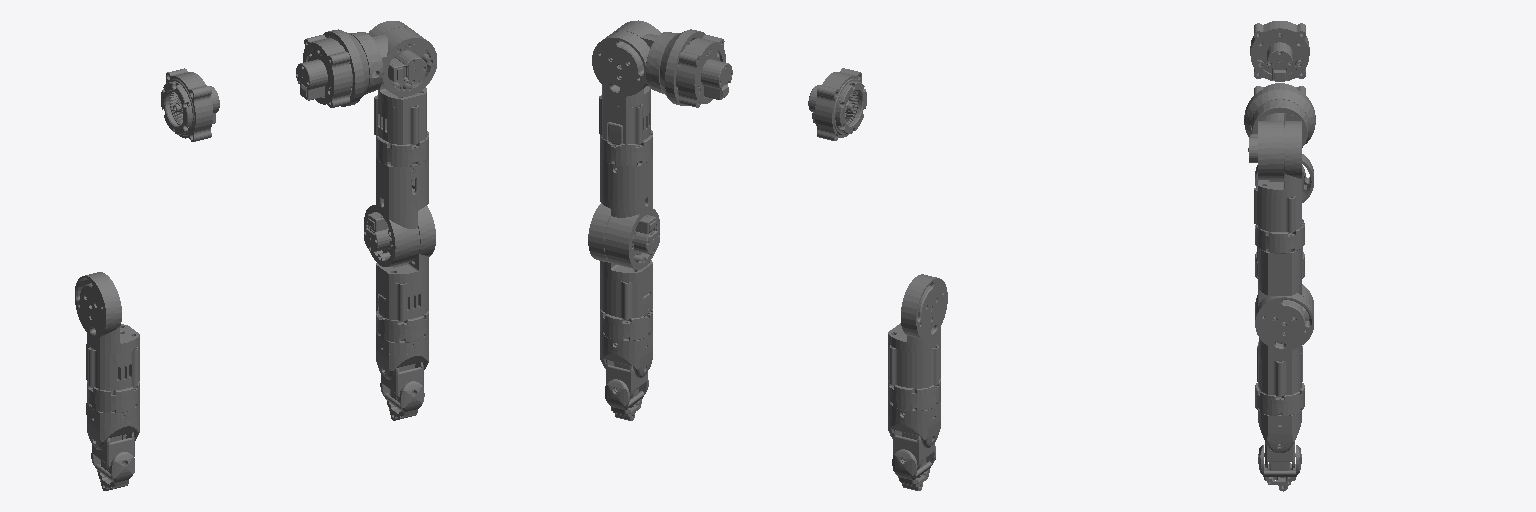
URDF robot description (Wattson):
<robot name="Wattson" version="1.0">
  <joint name="joint_left_arm_yaw" type="revolute">
    <limit lower="-1.30900" upper="0.26180" effort="0.00000" velocity="0.00000"/>
    <origin rpy="1.57080 0.00000 0.00000" xyz="-0.00717 0.16307 -0.02474"/>
    <parent link="link_left_shoulder_x"/>
    <child link="link_left_upper_arm"/>
    <axis xyz="0.00000 0.00000 1.00000"/>
  </joint>
  <joint name="joint_left_elbow_pitch" type="revolute">
    <limit lower="0.00000" upper="1.57080" effort="0.00000" velocity="0.00000"/>
    <origin rpy="0.00000 1.57080 0.00000" xyz="-0.02455 0.00813 -0.12544"/>
    <parent link="link_left_upper_arm"/>
    <child link="link_left_elbow"/>
    <axis xyz="0.00000 0.00000 1.00000"/>
  </joint>
  <joint name="joint_left_forearm_yaw" type="revolute">
    <limit lower="-1.57080" upper="1.57080" effort="0.00000" velocity="0.00000"/>
    <origin rpy="0.00000 -1.57080 0.00000" xyz="0.16300 -0.00751 0.02462"/>
    <parent link="link_left_elbow"/>
    <child link="link_left_forearm"/>
    <axis xyz="0.00000 0.00000 1.00000"/>
  </joint>
  <joint name="joint_left_shoulder_pitch" type="revolute">
    <limit lower="0.00000" upper="1.57080" effort="0.00000" velocity="0.00000"/>
    <origin rpy="-0.00000 1.57080 0.00000" xyz="-0.13450 -0.00005 -0.00000"/>
    <parent link="link_torso"/>
    <child link="link_left_shoulder"/>
    <axis xyz="0.00000 0.00000 1.00000"/>
  </joint>
  <joint name="joint_left_shoulder_roll" type="revolute">
    <limit lower="0.00000" upper="1.30900" effort="0.00000" velocity="0.00000"/>
    <origin rpy="-1.57080 -1.57080 0.00000" xyz="0.00750 0.02422 -0.10644"/>
    <parent link="link_left_shoulder"/>
    <child link="link_left_shoulder_x"/>
    <axis xyz="0.00000 0.00000 1.00000"/>
  </joint>
  <joint name="joint_left_wrist_pitch" type="revolute">
    <limit lower="-0.69813" upper="0.69813" effort="0.00000" velocity="0.00000"/>
    <origin rpy="0.00000 1.57080 0.00000" xyz="-0.00045 -0.00005 -0.05499"/>
    <parent link="link_left_forearm"/>
    <child link="link_left_wrist"/>
    <axis xyz="0.00000 0.00000 1.00000"/>
  </joint>
  <joint name="joint_left_wrist_roll" type="revolute">
    <limit lower="-0.69813" upper="0.69813" effort="0.00000" velocity="0.00000"/>
    <origin rpy="-1.57080 -1.57080 0.00000" xyz="0.02994 -0.00000 0.00000"/>
    <parent link="link_left_wrist"/>
    <child link="link_left_hand"/>
    <axis xyz="0.00000 0.00000 1.00000"/>
  </joint>
  <joint name="joint_right_arm_yaw" type="revolute">
    <limit lower="-1.30900" upper="0.26180" effort="0.00000" velocity="0.00000"/>
    <origin rpy="1.57080 0.00000 0.00000" xyz="0.00717 -0.16307 0.02474"/>
    <parent link="link_right_shoulder_x"/>
    <child link="link_right_upper_arm"/>
    <axis xyz="0.00000 0.00000 1.00000"/>
  </joint>
  <joint name="joint_right_elbow_pitch" type="revolute">
    <limit lower="0.00000" upper="1.57080" effort="0.00000" velocity="0.00000"/>
    <origin rpy="1.79848 -1.57080 1.34311" xyz="0.02455 -0.00813 0.12544"/>
    <parent link="link_right_upper_arm"/>
    <child link="link_right_elbow"/>
    <axis xyz="0.00000 0.00000 1.00000"/>
  </joint>
  <joint name="joint_right_forearm_yaw" type="revolute">
    <limit lower="-1.57080" upper="1.57080" effort="0.00000" velocity="0.00000"/>
    <origin rpy="-3.14159 -1.57080 0.00000" xyz="0.16300 -0.00751 -0.02462"/>
    <parent link="link_right_elbow"/>
    <child link="link_right_forearm"/>
    <axis xyz="0.00000 0.00000 1.00000"/>
  </joint>
  <joint name="joint_right_shoulder_pitch" type="revolute">
    <limit lower="0.00000" upper="1.57080" effort="0.00000" velocity="0.00000"/>
    <origin rpy="-0.00000 1.57080 0.00000" xyz="0.13454 -0.00005 -0.00000"/>
    <parent link="link_torso"/>
    <child link="link_right_shoulder"/>
    <axis xyz="0.00000 0.00000 1.00000"/>
  </joint>
  <joint name="joint_right_shoulder_roll" type="revolute">
    <limit lower="0.00000" upper="1.30900" effort="0.00000" velocity="0.00000"/>
    <origin rpy="1.57080 -1.57080 0.00000" xyz="0.00750 0.02422 0.10644"/>
    <parent link="link_right_shoulder"/>
    <child link="link_right_shoulder_x"/>
    <axis xyz="0.00000 0.00000 1.00000"/>
  </joint>
  <joint name="joint_right_wrist_pitch" type="revolute">
    <limit lower="-0.69813" upper="0.69813" effort="0.00000" velocity="0.00000"/>
    <origin rpy="1.79848 -1.57080 1.34311" xyz="0.00045 0.00005 0.05499"/>
    <parent link="link_right_forearm"/>
    <child link="link_right_wrist"/>
    <axis xyz="0.00000 0.00000 1.00000"/>
  </joint>
  <joint name="joint_right_wrist_roll" type="revolute">
    <limit lower="-0.69813" upper="0.69813" effort="0.00000" velocity="0.00000"/>
    <origin rpy="1.57080 -1.57080 0.00000" xyz="0.02994 -0.00000 -0.00000"/>
    <parent link="link_right_wrist"/>
    <child link="link_right_hand"/>
    <axis xyz="0.00000 0.00000 1.00000"/>
  </joint>
  <link name="link_left_elbow">
    <collision>
      <origin rpy="0.00000 -1.57080 0.00000" xyz="0.05728 -0.00006 0.02315"/>
      <geometry>
        <cylinder radius="0.04750" length="0.20945"/>
      </geometry>
    </collision>
    <visual name="left_forearm">
      <origin rpy="0.00000 -1.57080 0.00000" xyz="0.00000 -0.00000 0.00000"/>
      <material name="Base colour"/>
      <geometry>
        <mesh filename="package://wattson_description/meshes/stl/left_forearm.stl" scale="1.00000 1.00000 1.00000"/>
      </geometry>
    </visual>
  </link>
  <link name="link_left_forearm">
    <collision>
      <origin rpy="0.00000 0.00000 0.00000" xyz="-0.00045 -0.00008 -0.03495"/>
      <geometry>
        <cylinder radius="0.03505" length="0.06989"/>
      </geometry>
    </collision>
    <visual name="left_wrist">
      <origin rpy="0.00000 0.00000 0.00000" xyz="0.00000 0.00000 0.00000"/>
      <material name="Base colour"/>
      <geometry>
        <mesh filename="package://wattson_description/meshes/stl/left_wrist.stl" scale="1.00000 1.00000 1.00000"/>
      </geometry>
    </visual>
  </link>
  <link name="link_left_hand">
    <collision>
      <origin rpy="1.57080 -0.00000 1.57080" xyz="0.00001 0.02195 0.00000"/>
      <geometry>
        <cylinder radius="0.03682" length="0.04097"/>
      </geometry>
    </collision>
    <visual name="left_hand">
      <origin rpy="1.57080 0.00000 0.00000" xyz="0.00033 0.04021 0.00566"/>
      <material name="Base colour"/>
      <geometry>
        <mesh filename="package://wattson_description/meshes/stl/left_hand.stl" scale="1.00000 1.00000 1.00000"/>
      </geometry>
    </visual>
    <visual name="left_wrist_connection">
      <origin rpy="1.57080 0.00000 0.00000" xyz="0.00000 0.00000 0.00000"/>
      <material name="Base colour"/>
      <geometry>
        <mesh filename="package://wattson_description/meshes/stl/left_wrist_x.stl" scale="1.00000 1.00000 1.00000"/>
      </geometry>
    </visual>
  </link>
  <link name="link_left_shoulder">
    <collision>
      <origin rpy="0.00000 0.00000 0.00000" xyz="-0.00000 0.00005 -0.07697"/>
      <geometry>
        <cylinder radius="0.05750" length="0.15394"/>
      </geometry>
    </collision>
    <visual name="left_shoulder">
      <origin rpy="0.00000 -1.57080 0.00000" xyz="0.00000 0.00000 0.00000"/>
      <material name="Base colour"/>
      <geometry>
        <mesh filename="package://wattson_description/meshes/stl/left_shoulder.stl" scale="1.00000 1.00000 1.00000"/>
      </geometry>
    </visual>
  </link>
  <link name="link_left_shoulder_x">
    <collision>
      <origin rpy="1.57080 0.00000 0.00000" xyz="-0.00006 0.05728 -0.02518"/>
      <geometry>
        <cylinder radius="0.04750" length="0.20945"/>
      </geometry>
    </collision>
    <visual name="left_shoulder_x">
      <origin rpy="1.57080 0.00000 0.00000" xyz="0.00000 0.00000 0.00000"/>
      <material name="Base colour"/>
      <geometry>
        <mesh filename="package://wattson_description/meshes/stl/left_shoulder_x.stl" scale="1.00000 1.00000 1.00000"/>
      </geometry>
    </visual>
  </link>
  <link name="link_left_upper_arm">
    <collision>
      <origin rpy="0.00000 0.00000 0.00000" xyz="0.00764 0.00809 -0.08641"/>
      <geometry>
        <cylinder radius="0.04749" length="0.17294"/>
      </geometry>
    </collision>
    <visual name="left_upper_arm">
      <origin rpy="0.00000 0.00000 0.00000" xyz="0.00000 0.00000 0.00000"/>
      <material name="Base colour"/>
      <geometry>
        <mesh filename="package://wattson_description/meshes/stl/left_upper_arm.stl" scale="1.00000 1.00000 1.00000"/>
      </geometry>
    </visual>
  </link>
  <link name="link_left_wrist">
    <collision>
      <origin rpy="0.00000 -1.57080 0.00000" xyz="0.01501 -0.00000 0.00000"/>
      <geometry>
        <cylinder radius="0.02500" length="0.06115"/>
      </geometry>
    </collision>
    <visual name="left_wrist_x">
      <origin rpy="0.00000 -1.57080 0.00000" xyz="0.00000 0.00000 0.00000"/>
      <material name="Base colour"/>
      <geometry>
        <mesh filename="package://wattson_description/meshes/stl/left_wrist_connection.stl" scale="1.00000 1.00000 1.00000"/>
      </geometry>
    </visual>
  </link>
  <link name="link_right_elbow">
    <collision>
      <origin rpy="0.00000 -1.57080 0.00000" xyz="0.05728 -0.00006 -0.02315"/>
      <geometry>
        <cylinder radius="0.04750" length="0.20945"/>
      </geometry>
    </collision>
    <visual name="right_forearm">
      <origin rpy="0.00000 -1.57080 0.00000" xyz="0.00000 0.00000 0.00000"/>
      <material name="Base colour"/>
      <geometry>
        <mesh filename="package://wattson_description/meshes/stl/right_forearm.stl" scale="1.00000 1.00000 1.00000"/>
      </geometry>
    </visual>
  </link>
  <link name="link_right_forearm">
    <collision>
      <origin rpy="3.14159 0.00000 0.00000" xyz="0.00045 0.00008 0.03495"/>
      <geometry>
        <cylinder radius="0.03505" length="0.06989"/>
      </geometry>
    </collision>
    <visual name="right_wrist">
      <origin rpy="3.14159 0.00000 0.00000" xyz="-0.00000 0.00000 0.00000"/>
      <material name="Base colour"/>
      <geometry>
        <mesh filename="package://wattson_description/meshes/stl/right_wrist.stl" scale="1.00000 1.00000 1.00000"/>
      </geometry>
    </visual>
  </link>
  <link name="link_right_hand">
    <collision>
      <origin rpy="-1.57080 -0.00000 -1.57080" xyz="-0.00001 -0.02195 -0.00000"/>
      <geometry>
        <cylinder radius="0.03682" length="0.04097"/>
      </geometry>
    </collision>
    <visual name="right_hand">
      <origin rpy="-1.57080 0.00000 0.00000" xyz="-0.00033 -0.04021 -0.00566"/>
      <material name="Base colour"/>
      <geometry>
        <mesh filename="package://wattson_description/meshes/stl/right_hand.stl" scale="1.00000 1.00000 1.00000"/>
      </geometry>
    </visual>
    <visual name="right_wrist__connection">
      <origin rpy="-1.57080 0.00000 0.00000" xyz="0.00000 0.00000 0.00000"/>
      <material name="Base colour"/>
      <geometry>
        <mesh filename="package://wattson_description/meshes/stl/right_wrist_x.stl" scale="1.00000 1.00000 1.00000"/>
      </geometry>
    </visual>
  </link>
  <link name="link_right_shoulder">
    <collision>
      <origin rpy="0.00000 0.00000 0.00000" xyz="-0.00000 0.00005 0.07697"/>
      <geometry>
        <cylinder radius="0.05750" length="0.15394"/>
      </geometry>
    </collision>
    <visual name="right_shoulder">
      <origin rpy="0.00000 -1.57080 0.00000" xyz="0.00000 0.00000 0.00000"/>
      <material name="Base colour"/>
      <geometry>
        <mesh filename="package://wattson_description/meshes/stl/right_shoulder.stl" scale="1.00000 1.00000 1.00000"/>
      </geometry>
    </visual>
  </link>
  <link name="link_right_shoulder_x">
    <collision>
      <origin rpy="-1.57080 0.00000 0.00000" xyz="0.00006 -0.05728 0.02518"/>
      <geometry>
        <cylinder radius="0.04750" length="0.20945"/>
      </geometry>
    </collision>
    <visual name="right_shoulder_x">
      <origin rpy="-1.57080 0.00000 0.00000" xyz="0.00000 0.00000 0.00000"/>
      <material name="Base colour"/>
      <geometry>
        <mesh filename="package://wattson_description/meshes/stl/right_shoulder_x.stl" scale="1.00000 1.00000 1.00000"/>
      </geometry>
    </visual>
  </link>
  <link name="link_right_upper_arm">
    <collision>
      <origin rpy="3.14159 0.00000 0.00000" xyz="-0.00764 -0.00809 0.08641"/>
      <geometry>
        <cylinder radius="0.04749" length="0.17294"/>
      </geometry>
    </collision>
    <visual name="right_upper_arm">
      <origin rpy="3.14159 0.00000 0.00000" xyz="0.00000 0.00000 0.00000"/>
      <material name="Base colour"/>
      <geometry>
        <mesh filename="package://wattson_description/meshes/stl/right_upper_arm.stl" scale="1.00000 1.00000 1.00000"/>
      </geometry>
    </visual>
  </link>
  <link name="link_right_wrist">
    <collision>
      <origin rpy="0.00000 -1.57080 0.00000" xyz="0.01501 0.00000 -0.00000"/>
      <geometry>
        <cylinder radius="0.02500" length="0.06115"/>
      </geometry>
    </collision>
    <visual name="right_wrist_x">
      <origin rpy="0.00000 -1.57080 0.00000" xyz="-0.00000 0.00000 -0.00000"/>
      <material name="Base colour"/>
      <geometry>
        <mesh filename="package://wattson_description/meshes/stl/right_wrist_connection.stl" scale="1.00000 1.00000 1.00000"/>
      </geometry>
    </visual>
  </link>
  <link name="link_torso">
    <collision>
      <origin rpy="0.00000 0.00000 0.00000" xyz="0.00000 0.00000 -0.00000"/>
      <geometry>
        <box size="0.20600 0.09000 0.08500"/>
      </geometry>
    </collision>
    <visual name="left_shoulder_connection">
      <origin rpy="0.00000 0.00000 0.00000" xyz="-0.10095 0.00002 -0.00775"/>
      <material name="Base colour"/>
      <geometry>
        <mesh filename="package://wattson_description/meshes/stl/left_shoulder_connection.stl" scale="1.00000 1.00000 1.00000"/>
      </geometry>
    </visual>
    <visual name="right_shoulder_connection">
      <origin rpy="0.00000 0.00000 0.00000" xyz="0.10100 0.00002 -0.00775"/>
      <material name="Base colour"/>
      <geometry>
        <mesh filename="package://wattson_description/meshes/stl/right_shoulder_connection.stl" scale="1.00000 1.00000 1.00000"/>
      </geometry>
    </visual>
    <visual name="torso">
      <origin rpy="0.00000 0.00000 0.00000" xyz="0.00000 0.00000 0.00000"/>
      <material name="Base colour"/>
      <geometry>
        <mesh filename="package://wattson_description/meshes/stl/torso.stl" scale="1.00000 1.00000 1.00000"/>
      </geometry>
    </visual>
  </link>
  <material name="Base colour">
    <color rgba="0.51373 0.51373 0.51373 1.00000"/>
  </material>
</robot>

--- Facts derived from the render (not from the file) ---
3 views of the same robot in one strip: view 1: azimuth 30°, elevation 25°; view 2: azimuth 150°, elevation 25°; view 3: azimuth 270°, elevation 25° (orthographic).
Robot: Wattson — 15 links, 14 joints (14 revolute); root link link_torso; default pose: all joints at 0.
Visible links, largest first — view 1: link_left_elbow, link_torso, link_right_shoulder, link_right_upper_arm, link_right_elbow, link_right_shoulder_x, link_left_forearm, link_right_forearm, link_right_hand, link_left_hand, link_left_wrist, link_right_wrist; view 2: link_right_shoulder_x, link_left_elbow, link_torso, link_right_upper_arm, link_right_elbow, link_right_shoulder, link_right_forearm, link_left_forearm, link_left_hand, link_right_hand, link_left_wrist, link_right_wrist; view 3: link_right_elbow, link_right_shoulder_x, link_right_shoulder, link_torso, link_right_upper_arm, link_right_forearm, link_right_hand, link_left_elbow.
Link boxes in pixels (x1,y1,x2,y2): link_left_elbow: (75, 272, 139, 412); link_torso: (161, 35, 352, 141); link_right_shoulder: (323, 27, 436, 106); link_right_upper_arm: (364, 158, 428, 266); link_right_elbow: (376, 206, 435, 342); link_right_shoulder_x: (368, 21, 428, 166); link_left_forearm: (86, 403, 139, 449); link_right_forearm: (376, 334, 428, 379); link_right_hand: (380, 381, 424, 420); link_left_hand: (91, 452, 134, 490); link_left_wrist: (92, 432, 134, 471); link_right_wrist: (381, 362, 423, 400); link_right_shoulder_x: (592, 31, 652, 166); link_left_elbow: (888, 274, 947, 410); link_torso: (676, 34, 866, 140); link_right_upper_arm: (600, 157, 659, 269); link_right_elbow: (588, 203, 652, 340); link_right_shoulder: (613, 20, 704, 105); link_right_forearm: (600, 332, 652, 377); link_left_forearm: (888, 402, 940, 447); link_left_hand: (892, 446, 935, 490); link_right_hand: (605, 379, 648, 420); link_left_wrist: (893, 430, 934, 469); link_right_wrist: (606, 360, 647, 398); link_right_elbow: (1255, 293, 1313, 415); link_right_shoulder_x: (1254, 121, 1304, 253); link_right_shoulder: (1244, 86, 1315, 179); link_torso: (1250, 21, 1309, 94); link_right_upper_arm: (1255, 248, 1313, 342); link_right_forearm: (1258, 410, 1301, 452); link_right_hand: (1258, 445, 1301, 491); link_left_elbow: (1255, 154, 1313, 278).
Bounding box of the posed robot: 0.581 × 0.115 × 0.6602 m (x, y, z).
Meshes: 19 distinct files referenced, 13 mesh visuals loaded (13 binary STL); not drawn: 6 (reference not matched to a file when rendering).
